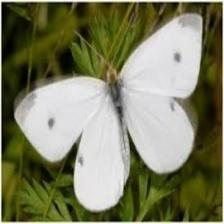butterfly: (15, 14, 203, 212)
